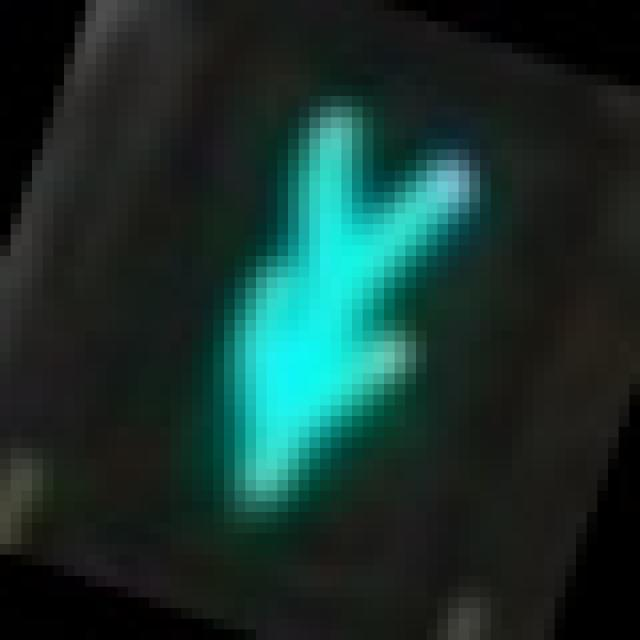green-light: (129, 65, 481, 535)
